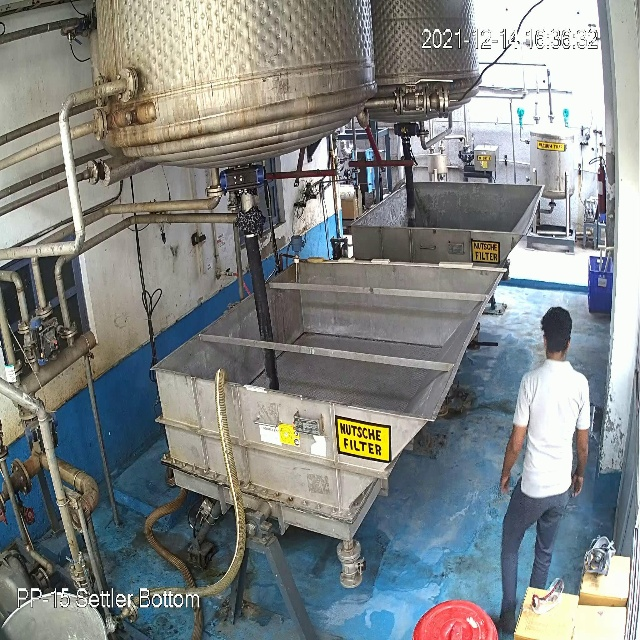Sin_guantes: (495, 414, 527, 495), (572, 425, 589, 500)
